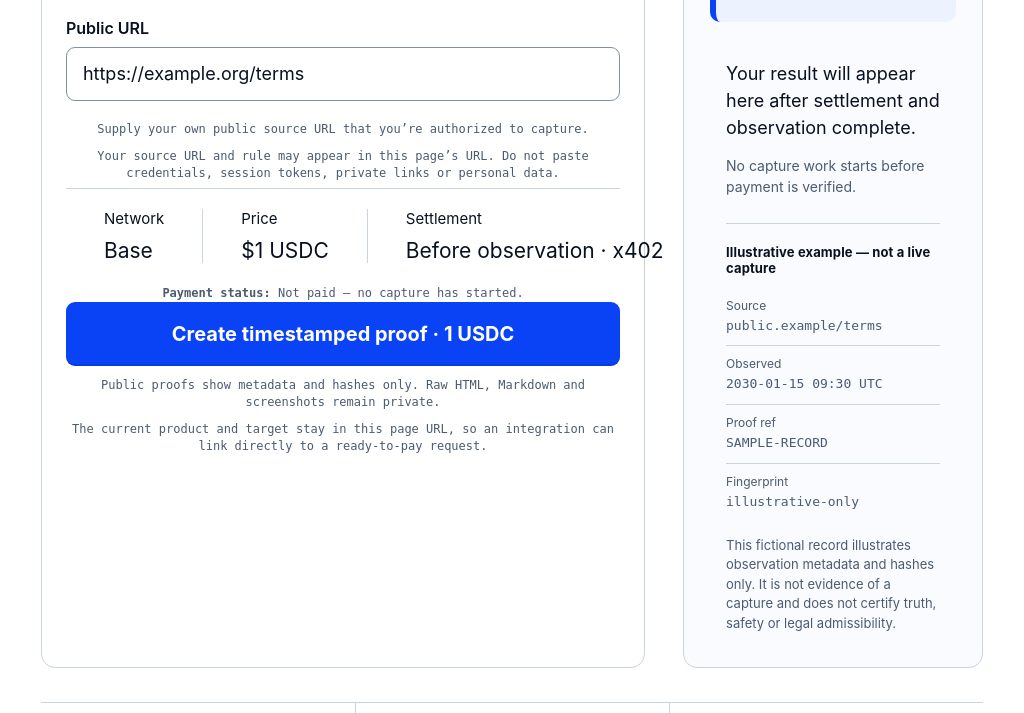
Scenario: Base app incomplete paid requests › fails closed before wallet access when Web Locks are unavailable
(page scrolled)
Click the button "Create timestamped proof · 1 USDC": [343, 334] box [66,302,620,366]
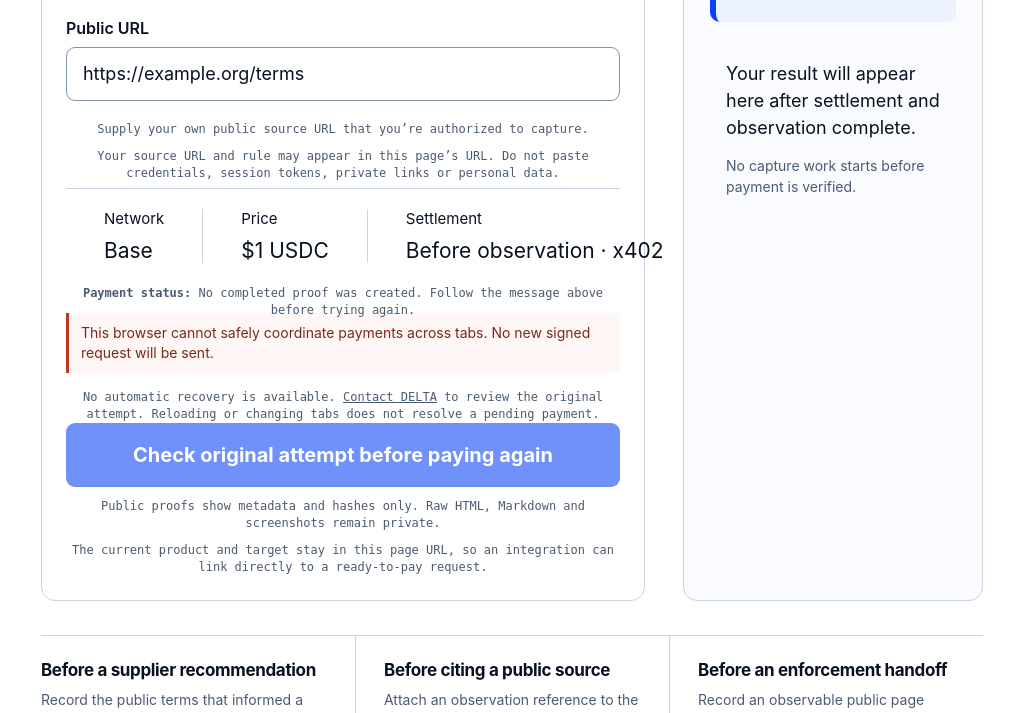
Expected: the element with class "result-status" no longer shows "READY"
Expected: the button "Check original attempt before paying again" is disabled, [66,423,620,487]
